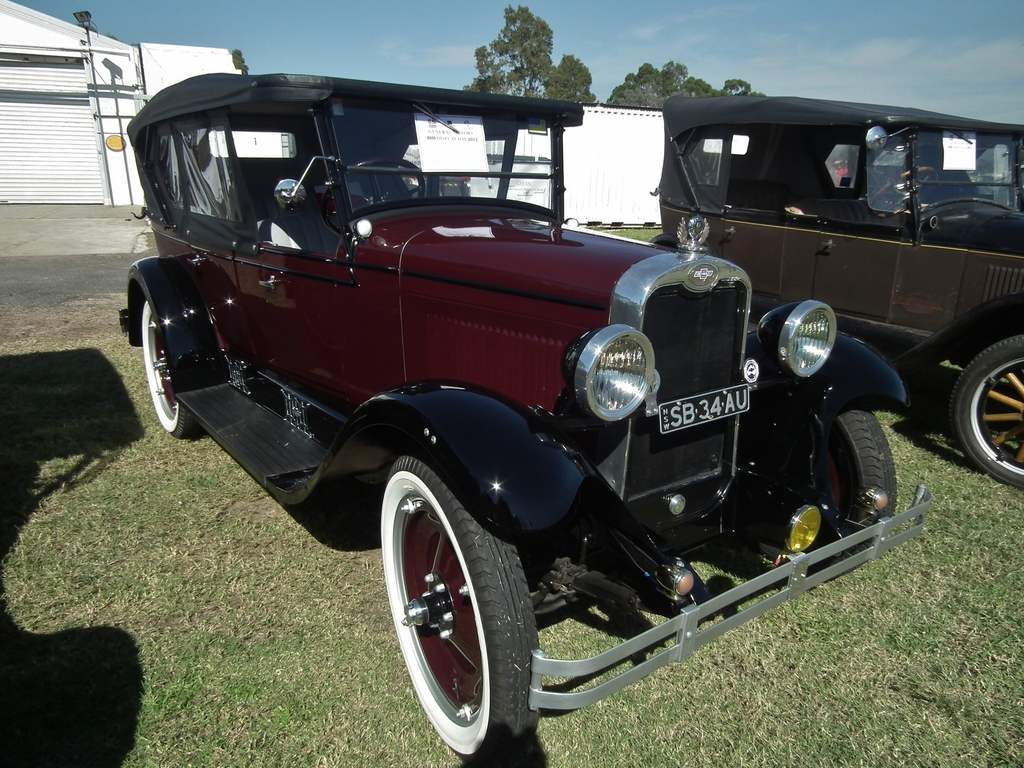Car: (121, 69, 935, 767)
